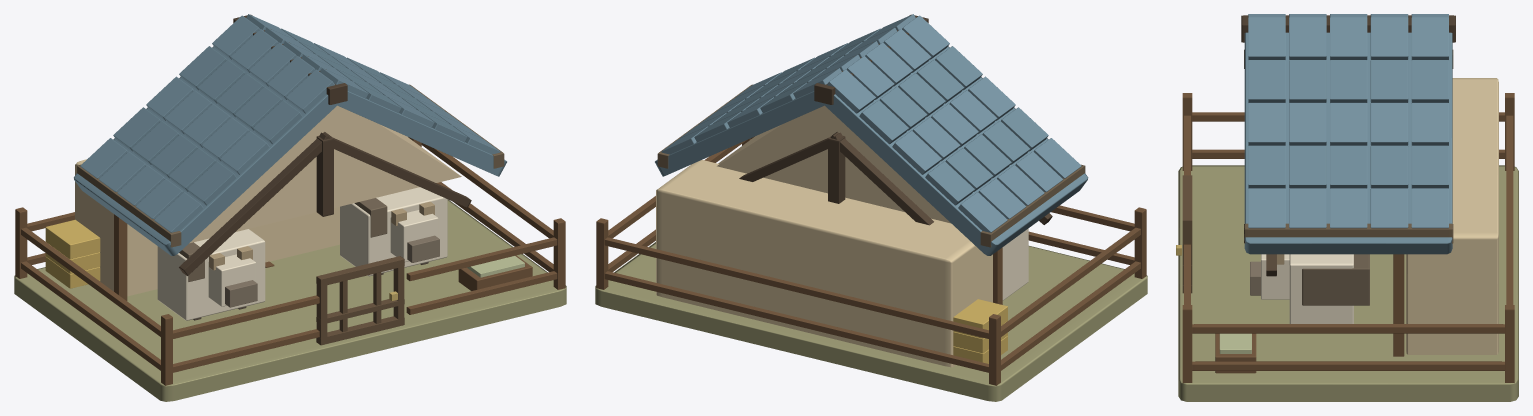
Rendered from cowshed-2.glb.
The picture shows the model from 3 angles, left to right: view 1: azimuth 30°, elevation 25°; view 2: azimuth 150°, elevation 25°; view 3: azimuth 270°, elevation 25°; orthographic projection. The views are drawn at different scales.
Visible parts, largest first — view 1: cowshed-2-0, cow-1, cow-0, door-hinge; view 2: cowshed-2-0, cow-0; view 3: cowshed-2-0, cow-1, door-hinge.
Part boxes in pixels (x1=…): cowshed-2-0: x1=14, y1=14, x2=566, y2=401; cow-1: x1=340, y1=187, x2=447, y2=276; cow-0: x1=157, y1=229, x2=265, y2=320; door-hinge: x1=316, y1=256, x2=404, y2=345; cowshed-2-0: x1=595, y1=14, x2=1147, y2=401; cow-0: x1=1002, y1=228, x2=1028, y2=300; cowshed-2-0: x1=1178, y1=14, x2=1518, y2=401; cow-1: x1=1250, y1=254, x2=1369, y2=323; door-hinge: x1=1176, y1=175, x2=1192, y2=293.
Bounding box in the file's own units: 2.9 × 1.71 × 1.91.
